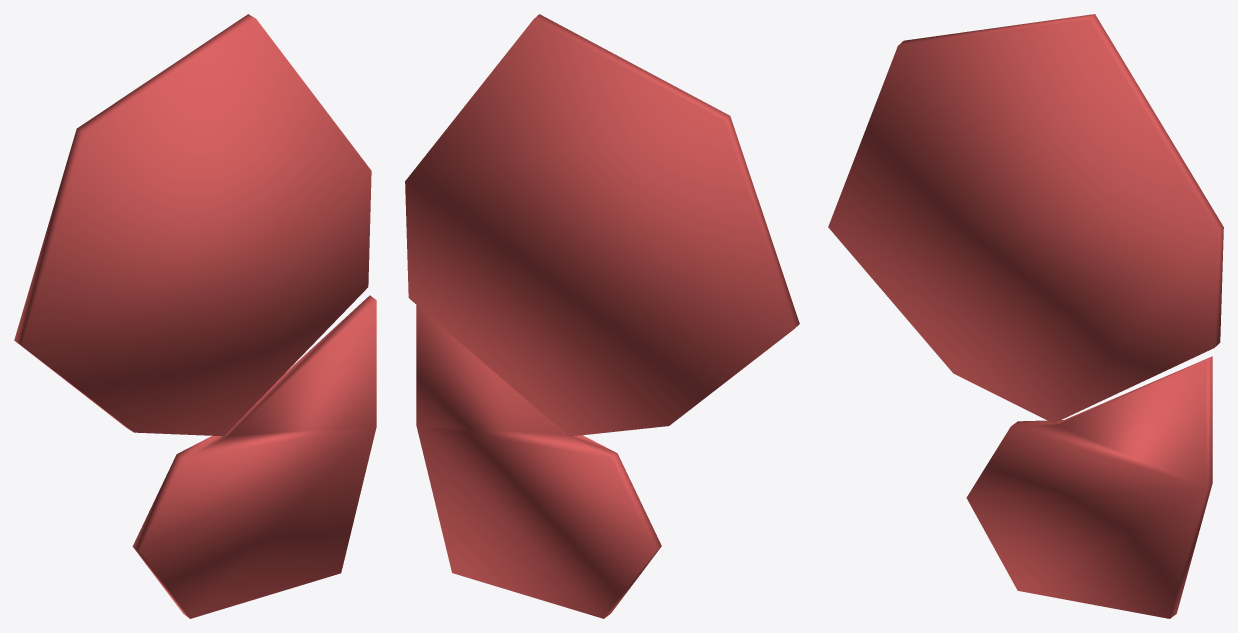
Rendered from Mariposa_W_Right.FBX.
The picture shows the model from 3 angles, left to right: view 1: azimuth 30°, elevation 25°; view 2: azimuth 150°, elevation 25°; view 3: azimuth 330°, elevation 25°; orthographic projection.
Visible parts, largest first — view 1: Wing_Right; view 2: Wing_Right; view 3: Wing_Right.
Part boxes in pixels (bbox=[...]): Wing_Right: bbox=[14, 14, 376, 618]; Wing_Right: bbox=[405, 14, 799, 618]; Wing_Right: bbox=[828, 14, 1223, 618].
Size of the model in its own units: 619 by 932 by 73.9.
